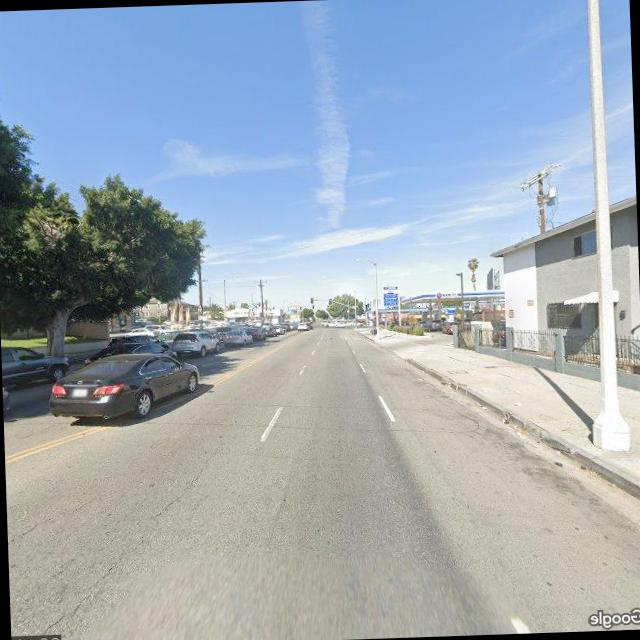pothole: (33, 463, 222, 637), (7, 498, 97, 554)
